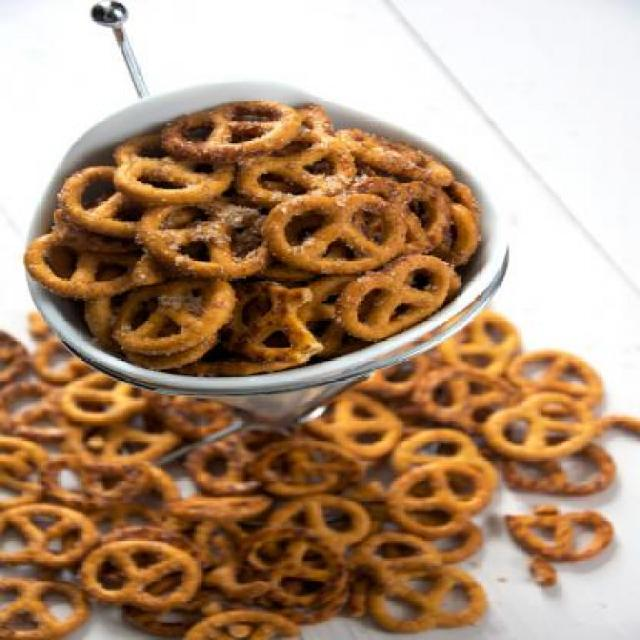Salatini packaged: (27, 99, 478, 361)
